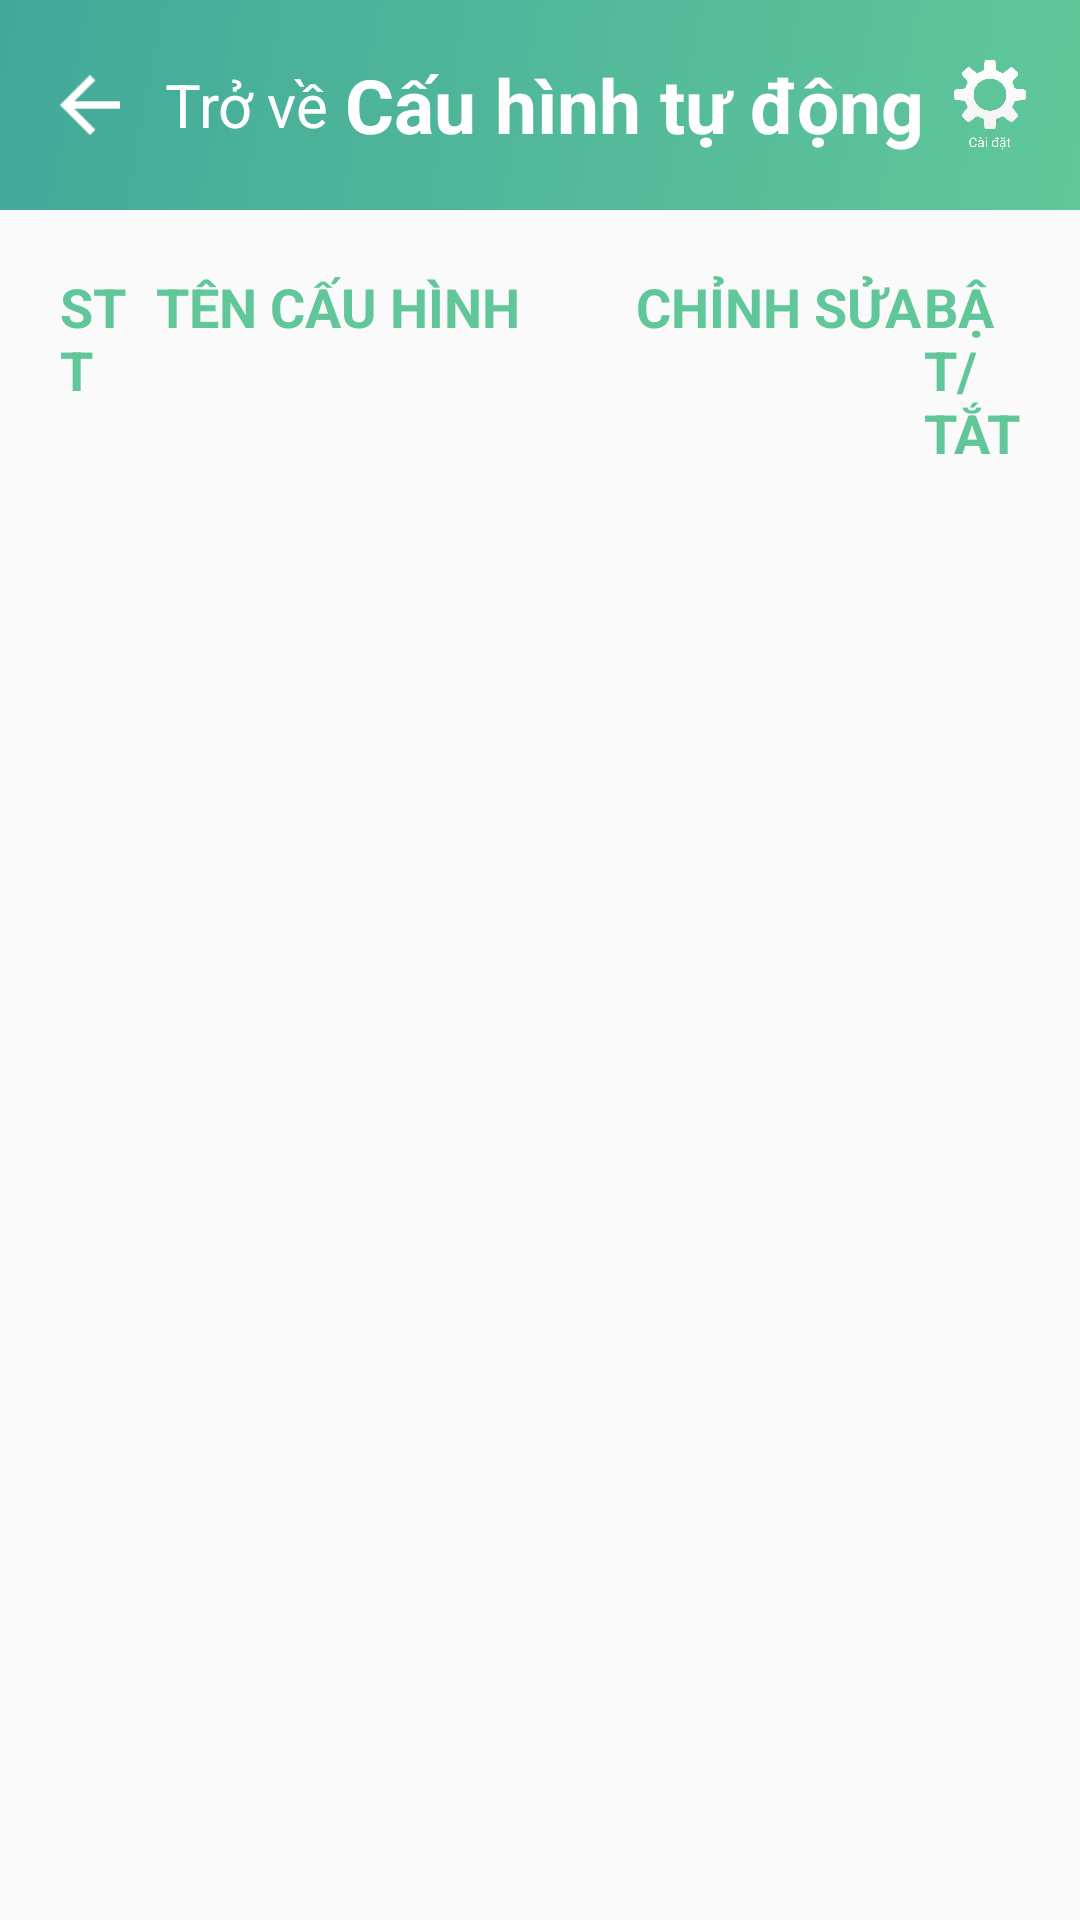

Named icons in this screenshot (1080*1920) and their centers, (x=x, y=y):
back: (x=90, y=105)
